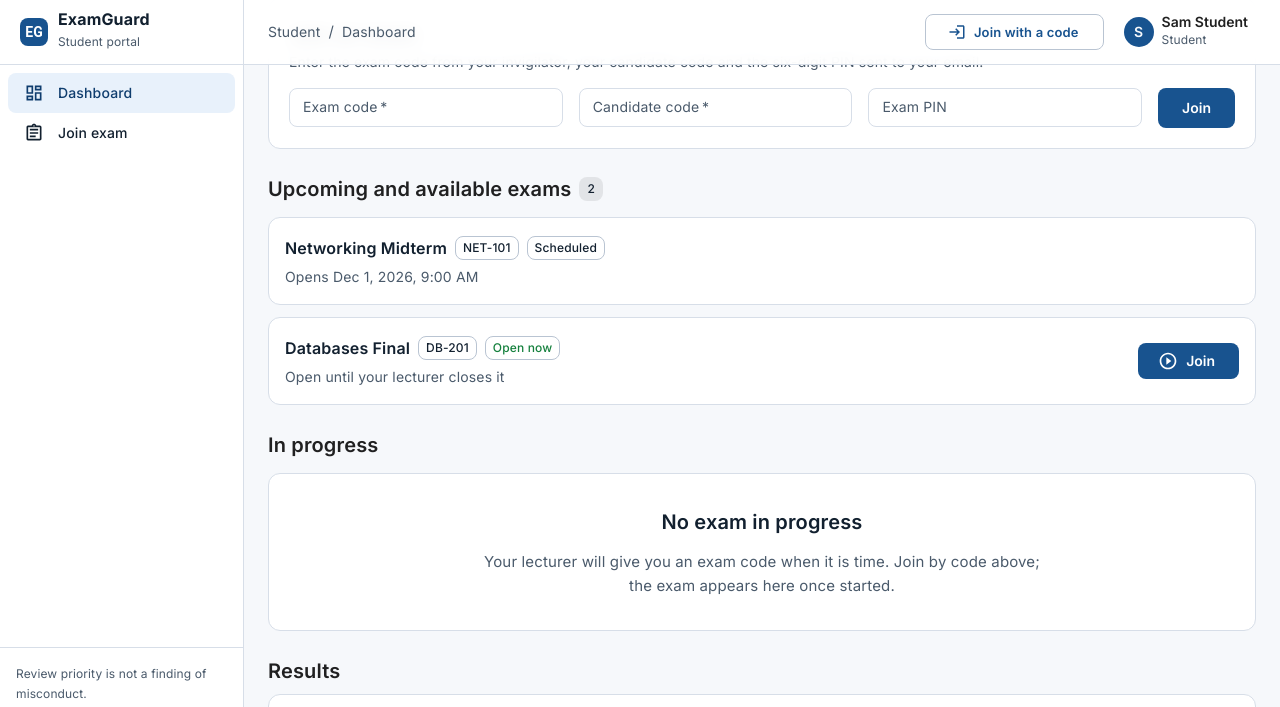
Test: StudentDashboardPage › lists enrolled exams as scheduled or available
(page scrolled)
Check: the heading "Upcoming and available exams" is shown, box [268, 174, 572, 206]
Check: the heading "Networking Midterm" is shown, box [285, 234, 447, 262]
Click the button "Join" in the row of "Open now".
click(1189, 361)  # box [1138, 343, 1239, 379]
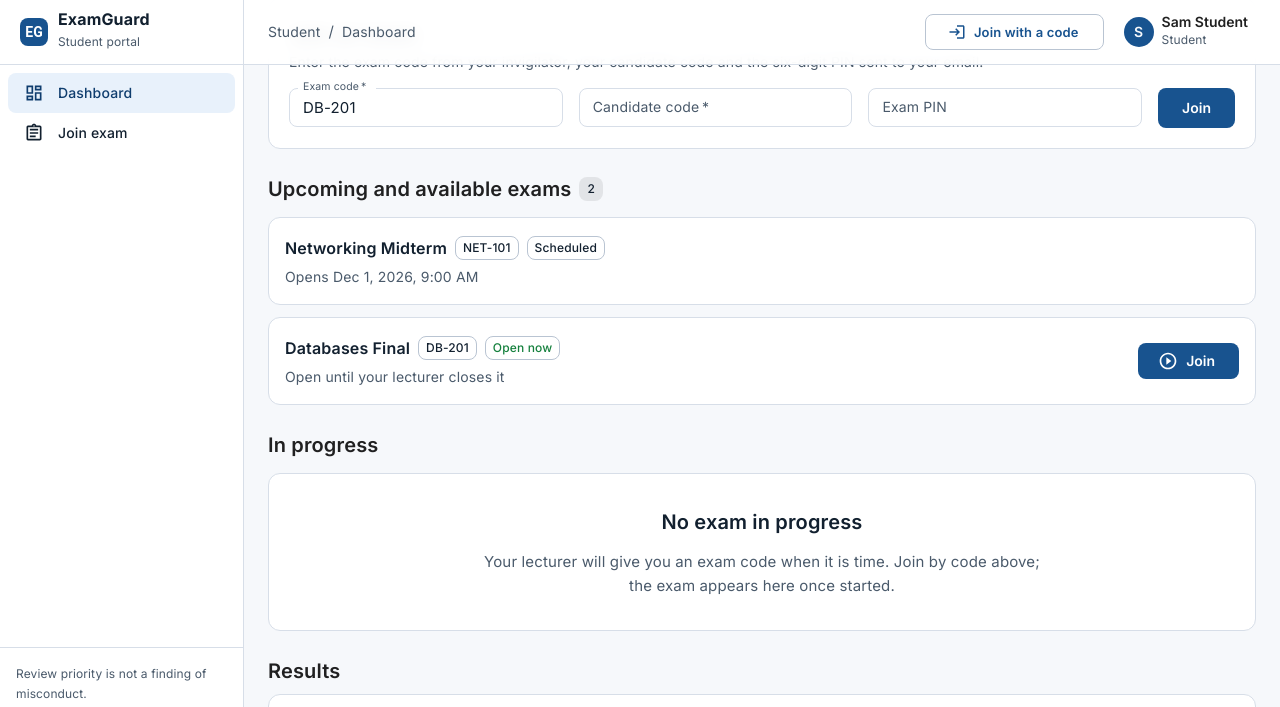
Check: the field labelled "Exam code" holds "DB-201", box [289, 88, 563, 127]
